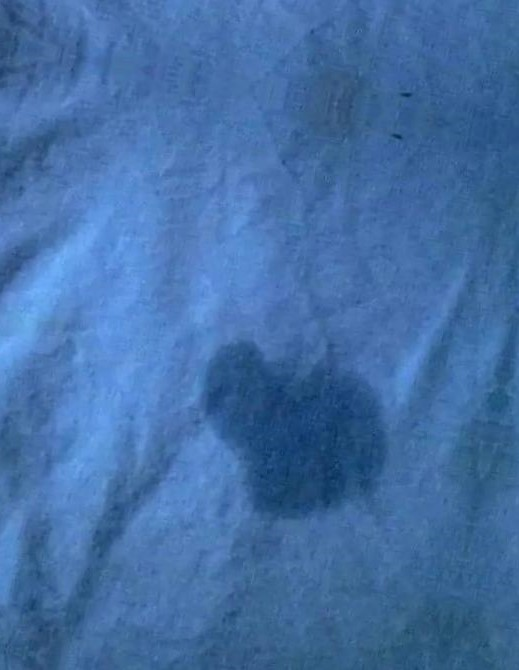stain: (198, 333, 401, 532)
